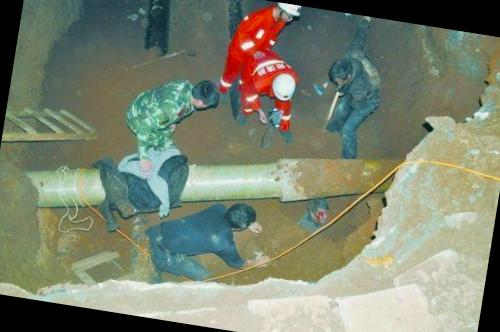no_helmet: (184, 77, 222, 120), (219, 201, 266, 234), (325, 56, 361, 92)
